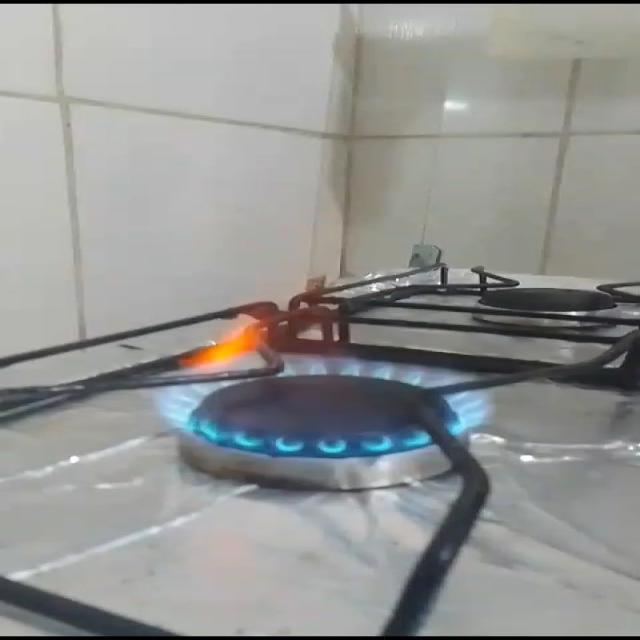fogo-ypXI: (149, 291, 503, 465)
